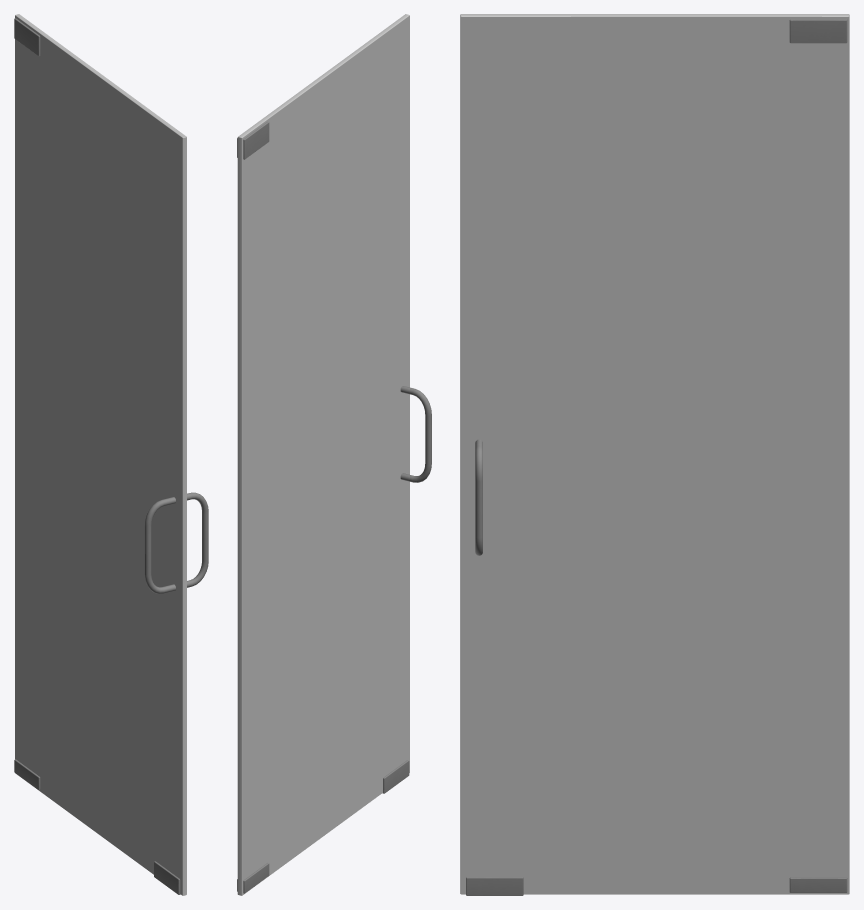
The model's file is SM_DoorGlass_01.fbx.
The picture shows the model from 3 angles, left to right: view 1: azimuth 30°, elevation 25°; view 2: azimuth 150°, elevation 25°; view 3: azimuth 270°, elevation 25°; orthographic projection. The views are drawn at different scales.
Visible parts, largest first — view 1: SM_DoorGlass_01_LOD0; view 2: SM_DoorGlass_01_LOD0; view 3: SM_DoorGlass_01_LOD0.
Part boxes in pixels (x1,y1,x2,y2): SM_DoorGlass_01_LOD0: (14,14,208,895); SM_DoorGlass_01_LOD0: (237,14,431,895); SM_DoorGlass_01_LOD0: (460,14,849,895).
Bounding box in the file's own units: 21.79 × 100 × 250.
